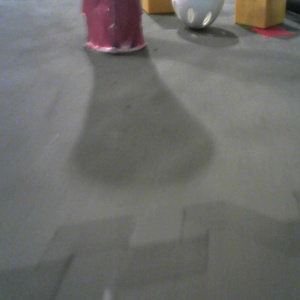middle: (82, 1, 147, 54)
